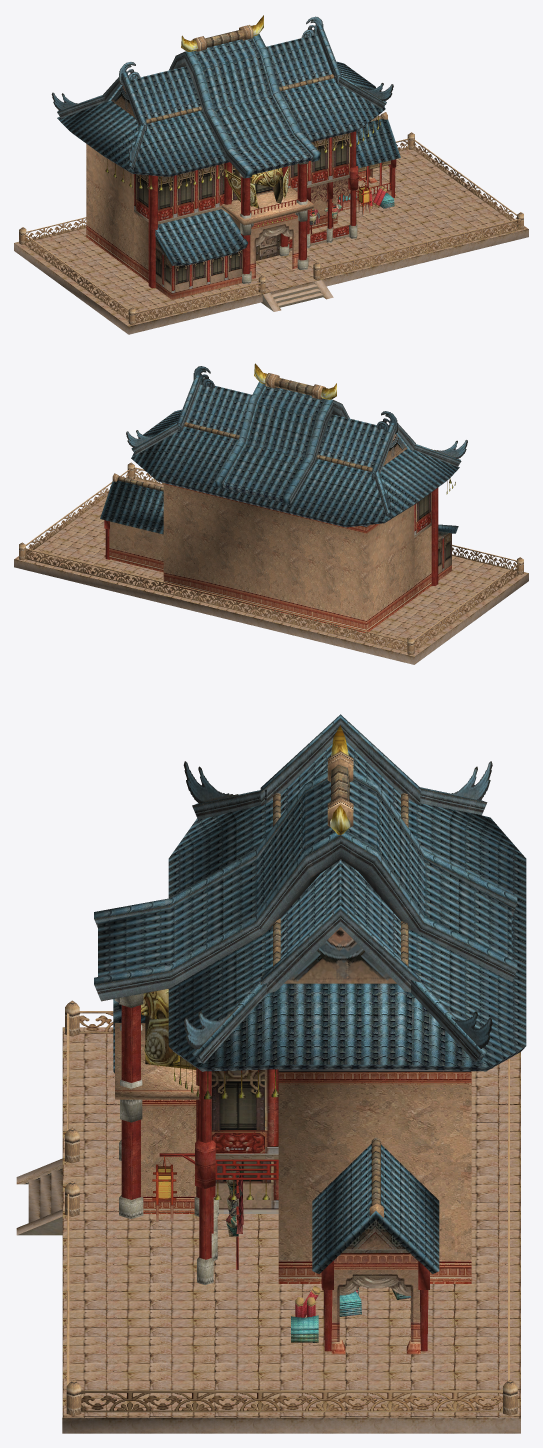
Rendered from cj_armo.glb.
The picture shows the model from 3 angles, top to bottom: view 1: azimuth 30°, elevation 25°; view 2: azimuth 150°, elevation 25°; view 3: azimuth 270°, elevation 25°; orthographic projection. The views are drawn at different scales.
Parts seen in each view (by area): view 1: CJ_armo_roof, CJ_armo_floor, CJ_armo_gidung, CJ_armo_fence01, CJ_armo_fence, CJ_armo_deco, CJ_armo_helmet; view 2: CJ_armo_roof, CJ_armo_floor, CJ_armo_gidung, CJ_armo_fence, CJ_armo_deco, CJ_armo_fence01, CJ_armo_helmet; view 3: CJ_armo_roof, CJ_armo_floor, CJ_armo_gidung, CJ_armo_fence, CJ_armo_deco, CJ_armo_fence01, CJ_armo_helmet.
Boxes of the visible parts, <box> form: CJ_armo_roof: <box>57,24,400,299</box>; CJ_armo_floor: <box>14,146,528,326</box>; CJ_armo_gidung: <box>14,25,528,334</box>; CJ_armo_fence01: <box>134,133,351,293</box>; CJ_armo_fence: <box>24,115,521,323</box>; CJ_armo_deco: <box>51,16,393,278</box>; CJ_armo_helmet: <box>111,15,342,255</box>; CJ_armo_roof: <box>100,375,460,632</box>; CJ_armo_floor: <box>14,477,528,656</box>; CJ_armo_gidung: <box>14,373,528,664</box>; CJ_armo_fence: <box>25,467,518,651</box>; CJ_armo_deco: <box>126,366,467,509</box>; CJ_armo_fence01: <box>414,492,451,573</box>; CJ_armo_helmet: <box>254,363,448,540</box>; CJ_armo_roof: <box>94,714,526,1354</box>; CJ_armo_floor: <box>62,1027,520,1417</box>; CJ_armo_gidung: <box>16,719,520,1433</box>; CJ_armo_fence: <box>67,1011,509,1412</box>; CJ_armo_deco: <box>152,761,492,1341</box>; CJ_armo_fence01: <box>211,1069,278,1213</box>; CJ_armo_helmet: <box>141,725,396,1236</box>.
Size of the model in its own units: 32.57 by 17.15 by 17.95.
Materials: 7 (7 with a texture image).
